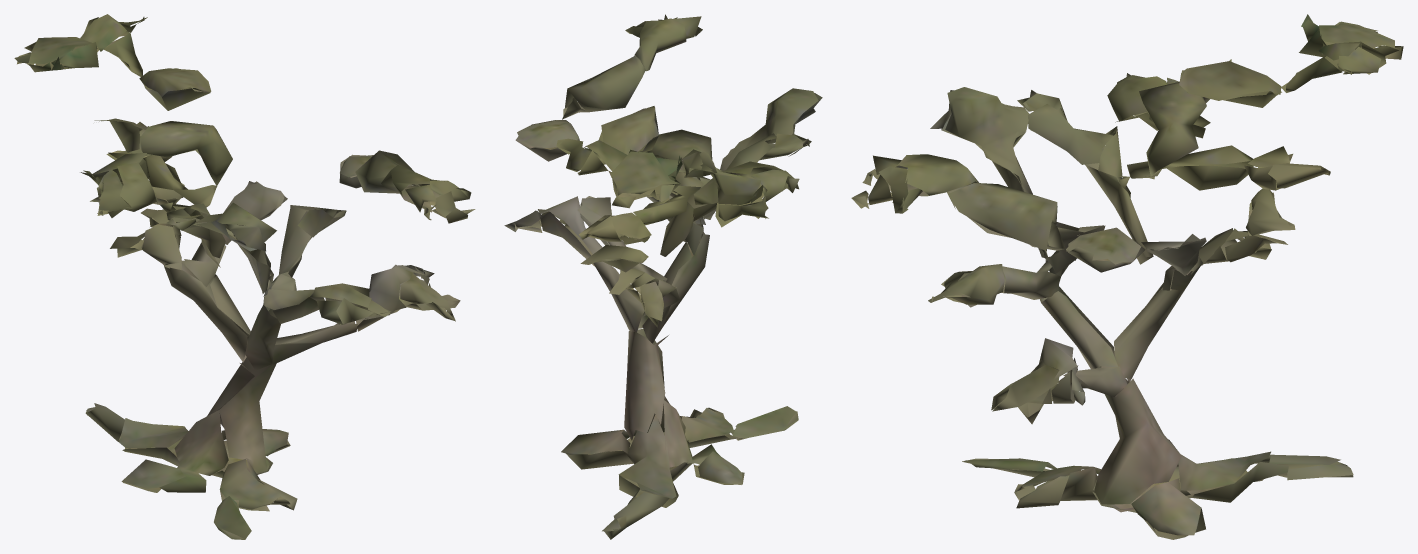
Rendered from woodland_bush_01_lod2.glb.
The picture shows the model from 3 angles, left to right: view 1: azimuth 30°, elevation 25°; view 2: azimuth 150°, elevation 25°; view 3: azimuth 270°, elevation 25°; orthographic projection. The views are drawn at different scales.
Visible parts, largest first — view 1: candidate_011_lod2; view 2: candidate_011_lod2; view 3: candidate_011_lod2.
Boxes of the visible parts, x1=… form: candidate_011_lod2: x1=14, y1=14, x2=475, y2=539; candidate_011_lod2: x1=504, y1=14, x2=822, y2=539; candidate_011_lod2: x1=851, y1=14, x2=1403, y2=539.
Size of the model in its own units: 0.0925 by 0.11 by 0.1224.
1 material, 1 textured.
